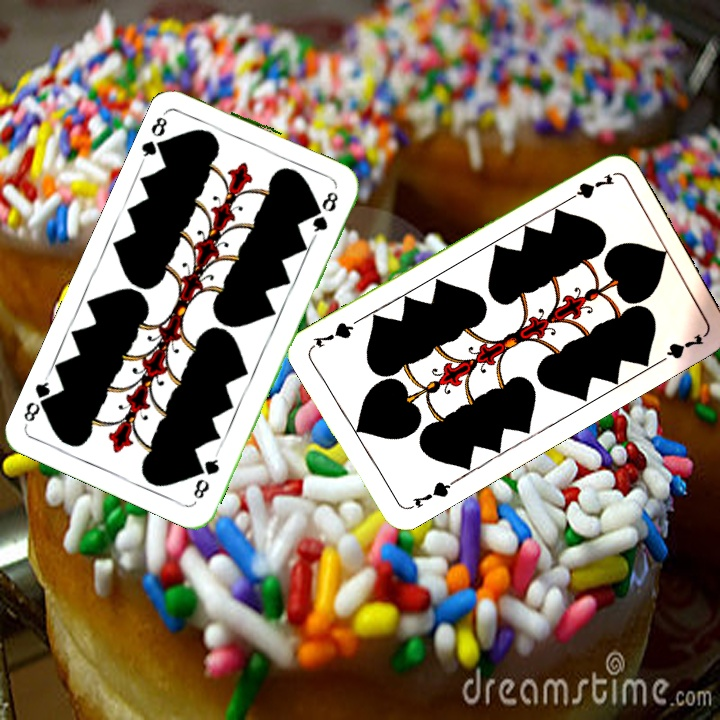G7: (560, 169, 617, 206), (403, 477, 458, 513)
G8: (138, 107, 172, 163), (189, 448, 222, 502)
